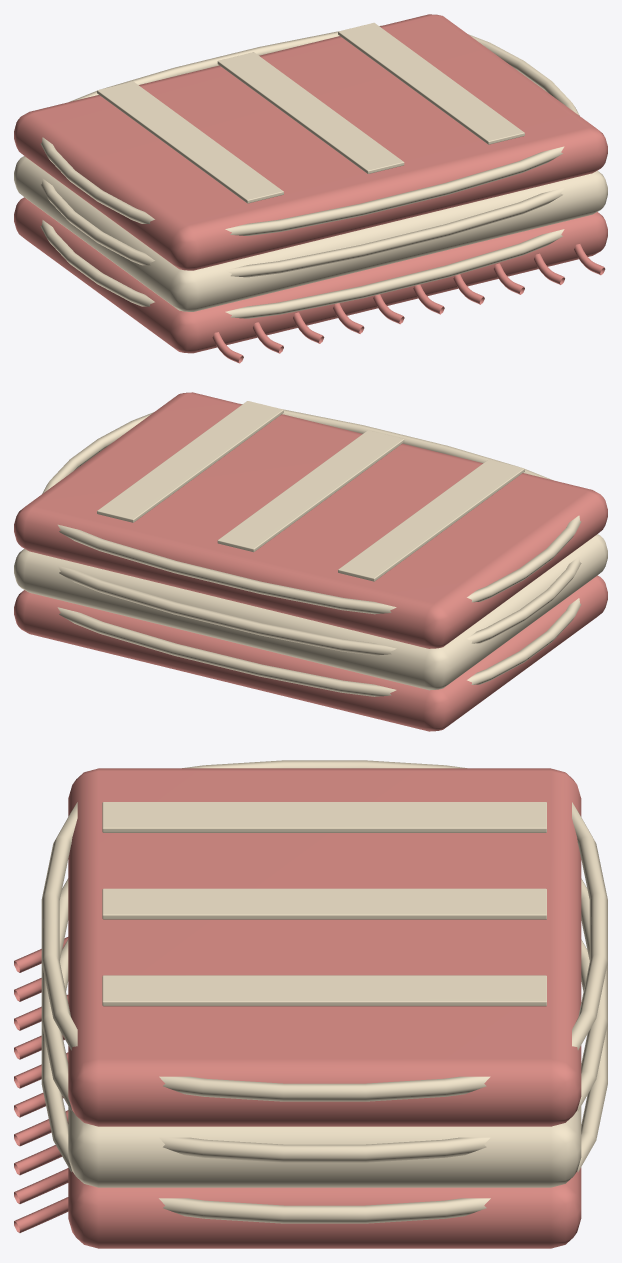
The model's file is blanket.glb.
3 views of the same model, one above another, from view 1: azimuth 30°, elevation 25°; view 2: azimuth 150°, elevation 25°; view 3: azimuth 270°, elevation 25° (orthographic). The views are drawn at different scales.
Visible parts, largest first — view 1: Crafted_pink, Crafted_cream; view 2: Crafted_pink, Crafted_cream; view 3: Crafted_pink, Crafted_cream.
Boxes of the visible parts, x1=… form: Crafted_pink: x1=14, y1=14, x2=607, y2=363; Crafted_cream: x1=14, y1=22, x2=607, y2=318; Crafted_pink: x1=14, y1=392, x2=607, y2=731; Crafted_cream: x1=14, y1=401, x2=607, y2=696; Crafted_pink: x1=14, y1=768, x2=581, y2=1248; Crafted_cream: x1=41, y1=760, x2=607, y2=1223.
Size of the model in its own units: 0.6868 by 0.194 by 0.521.
